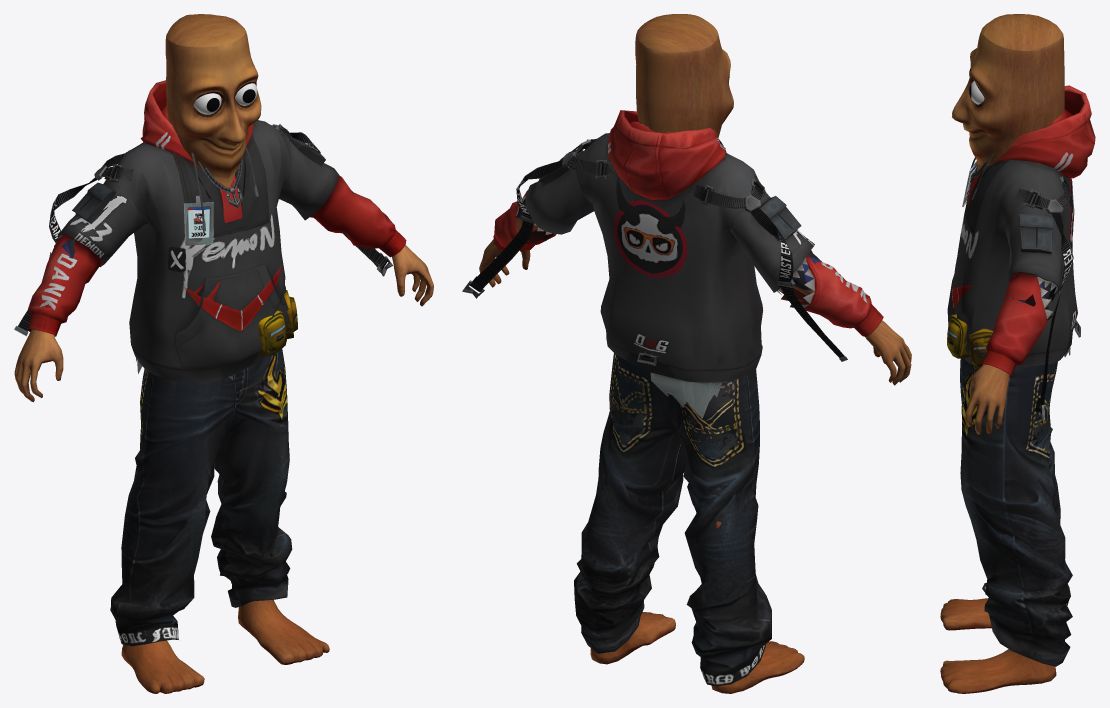
File: tung durento.glb
3 renders of one model, left to right at view 1: azimuth 30°, elevation 25°; view 2: azimuth 150°, elevation 25°; view 3: azimuth 270°, elevation 25°, orthographic. The views are drawn at different scales.
Visible parts, largest first — view 1: tung durento; view 2: tung durento; view 3: tung durento.
Part boxes in pixels (x1=…): tung durento: x1=14, y1=14, x2=433, y2=693; tung durento: x1=462, y1=14, x2=911, y2=693; tung durento: x1=940, y1=14, x2=1095, y2=693.
Size of the model in its own units: 0.6351 by 0.9236 by 0.2063.
9 materials, 7 textured.
